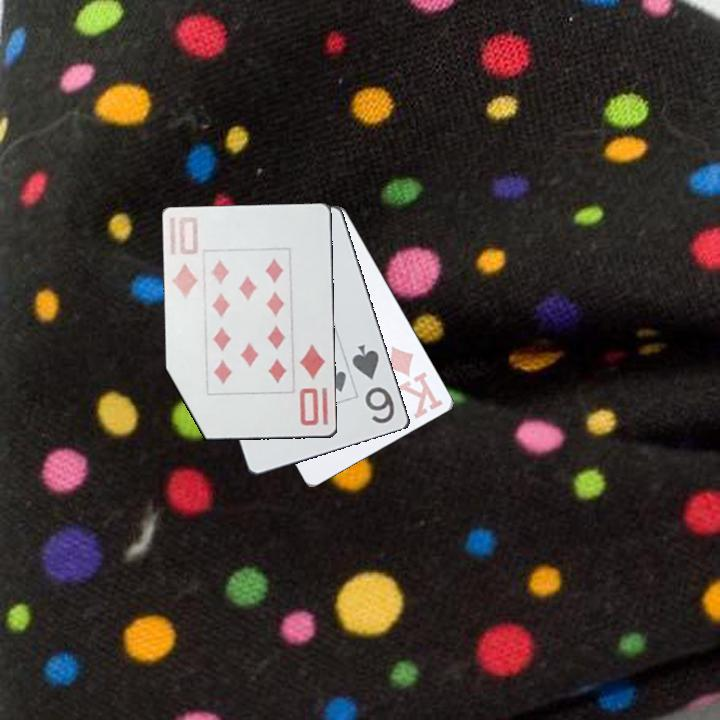6s: (349, 340, 398, 427)
Kd: (385, 342, 447, 421)
Td: (169, 213, 202, 302), (296, 341, 328, 429)
